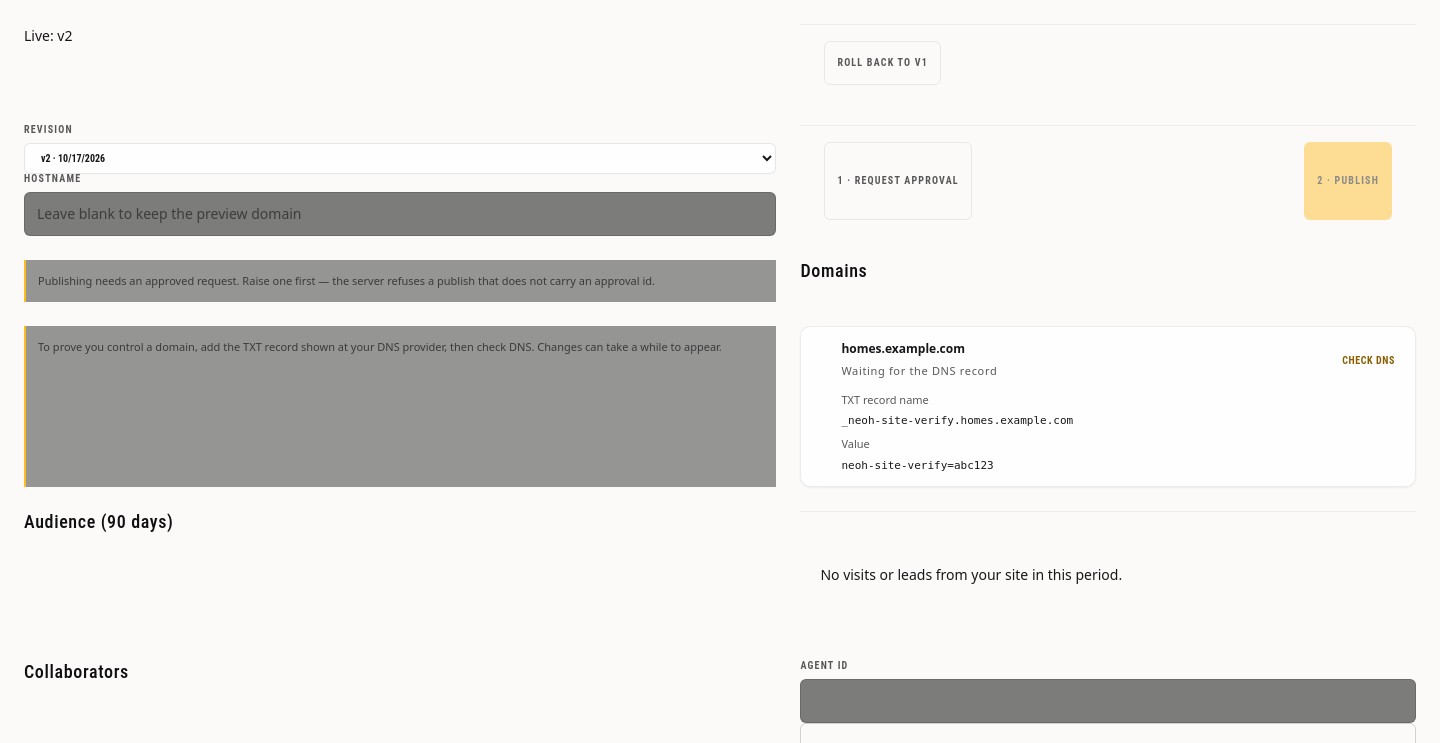
Test: SitePublishPanel › names the live version and rolls back to the previous one after confirming
Expected: the text "Live: v2" is shown, [24, 26, 72, 45]
What coordinates should you click on to do the following:
click the button "Roll back to v1"
I would click on:
 (883, 63)
Its box is [824, 41, 941, 85].
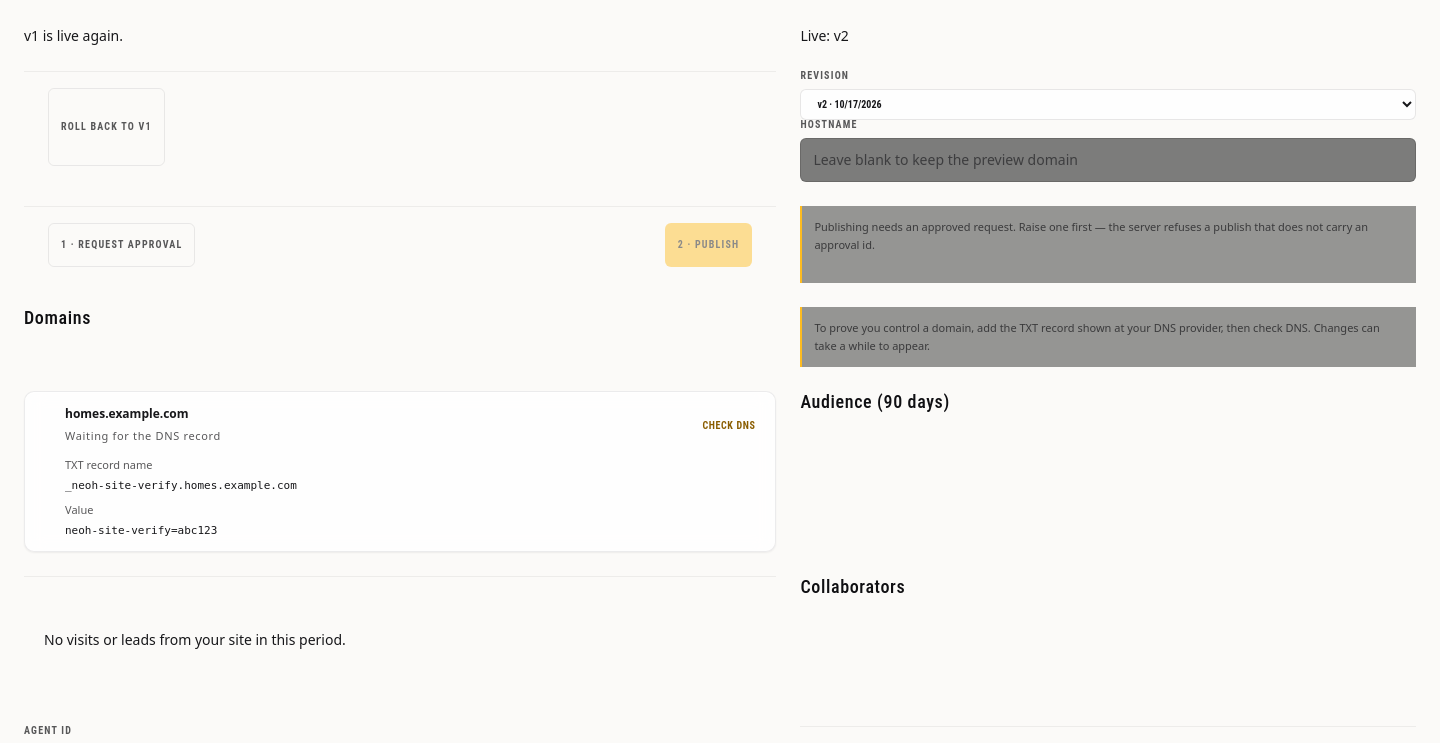
Expected: the text "v1 is live again." is shown, [24, 26, 123, 45]
